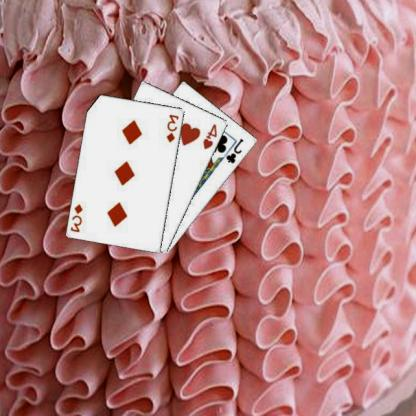3D: (166, 111, 182, 144), (70, 201, 86, 233)
4H: (202, 122, 220, 150)
JC: (225, 136, 247, 164)
